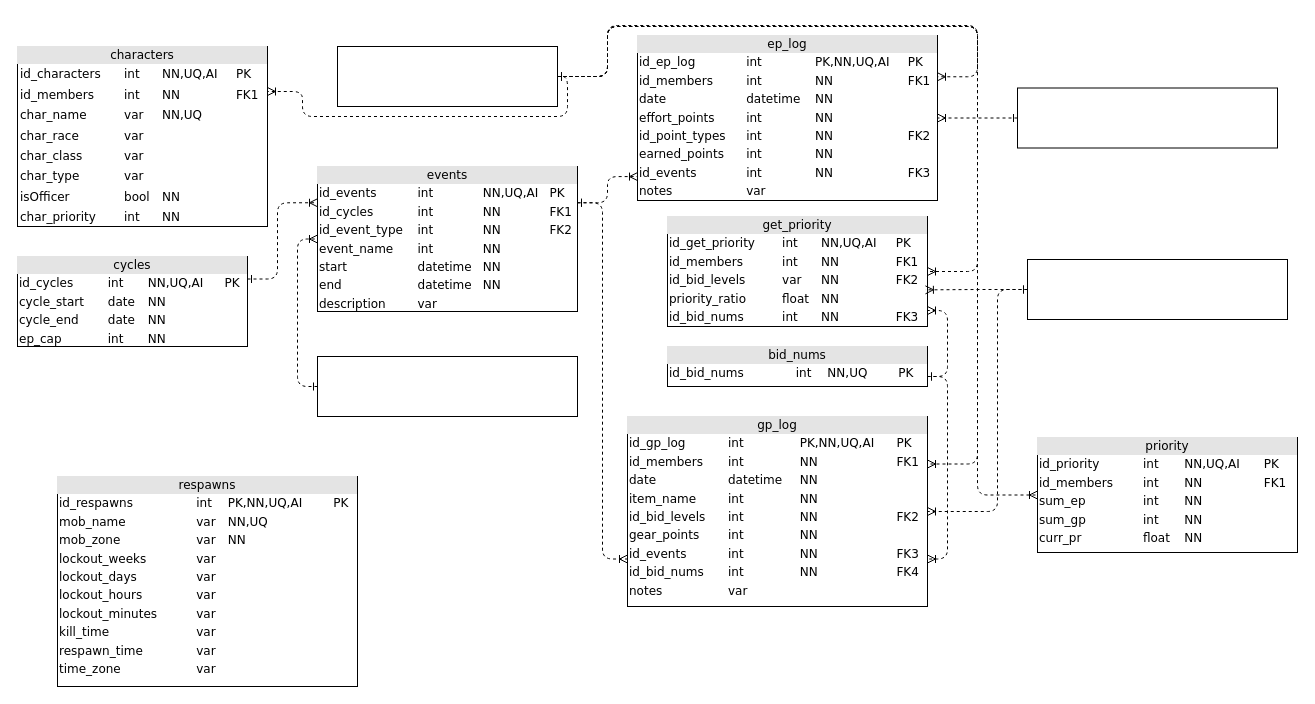
Some shapes in this 1315 by 704 pixel diagram are drawn without their labels. Here are the shapes that lost their labels. From the top down, the centre of each, then its label:
At (x=447, y=76): "members int id_members NN,UQ,AI PK var discord_id NN,UQ".
At (x=1147, y=117): "point_types id_point_types int NN,UQ,AI PK point_type var NN,UQ".
At (x=1157, y=289): "bid_levels id_bid_levels int NN,UQ,AI PK bid_level var NN,UQ".
At (x=447, y=386): "event_types id_event_types int NN,UQ,AI PK event_type var NN,UQ".
